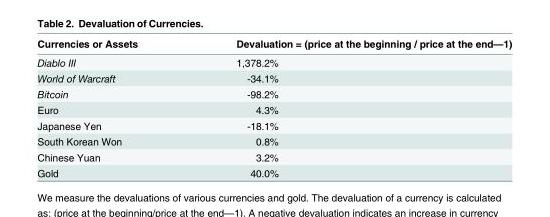table: (36, 37, 511, 178)
table column: (186, 37, 511, 178), (36, 37, 186, 178)
table column header: (36, 37, 511, 52)
table row: (36, 52, 511, 70), (36, 85, 511, 101), (36, 101, 511, 117), (36, 117, 511, 133), (36, 148, 511, 164), (36, 37, 511, 52), (36, 70, 511, 85), (36, 133, 511, 148), (36, 164, 511, 178)
